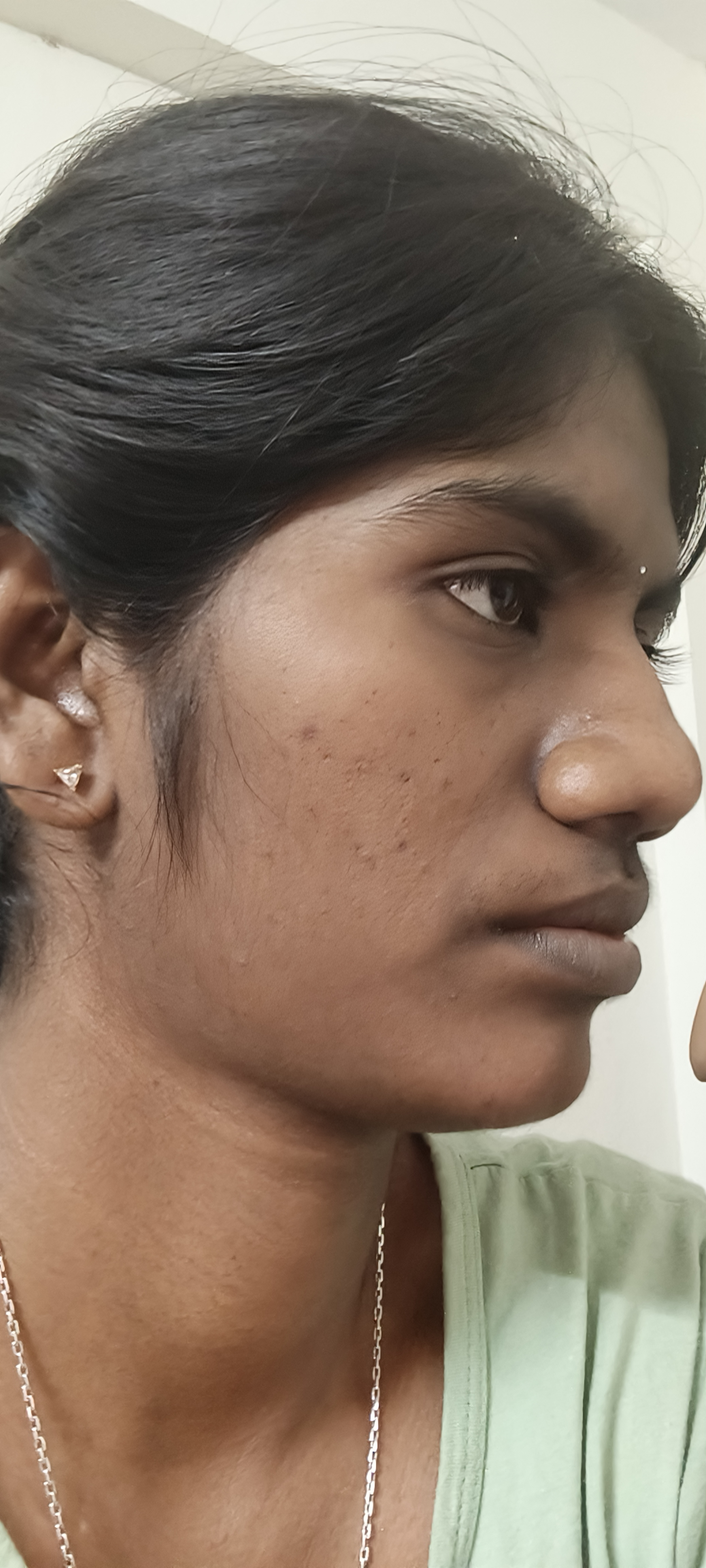closed_comedone: (447, 987, 462, 1002), (580, 712, 597, 724)
